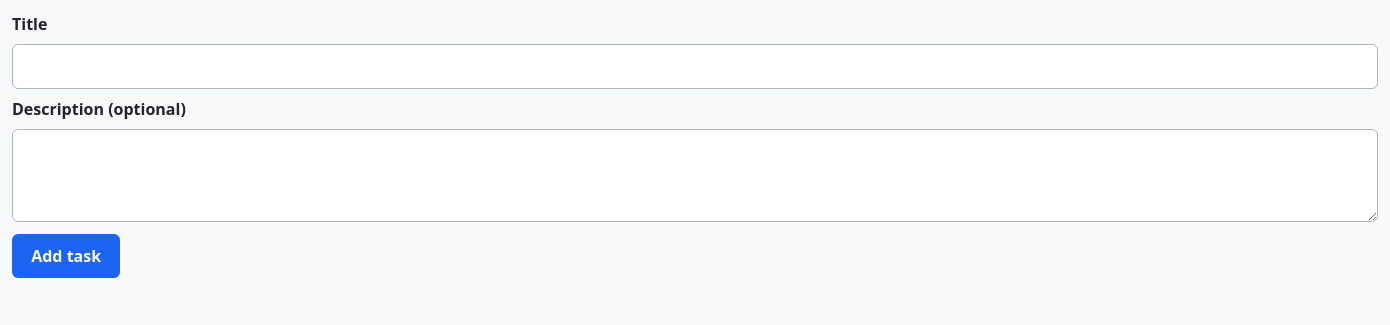
TaskForm › validation in the browser › clears the error of a field as soon as it is edited
Click the button "Add task" at (66, 256), box left=12, top=234, right=120, bottom=278
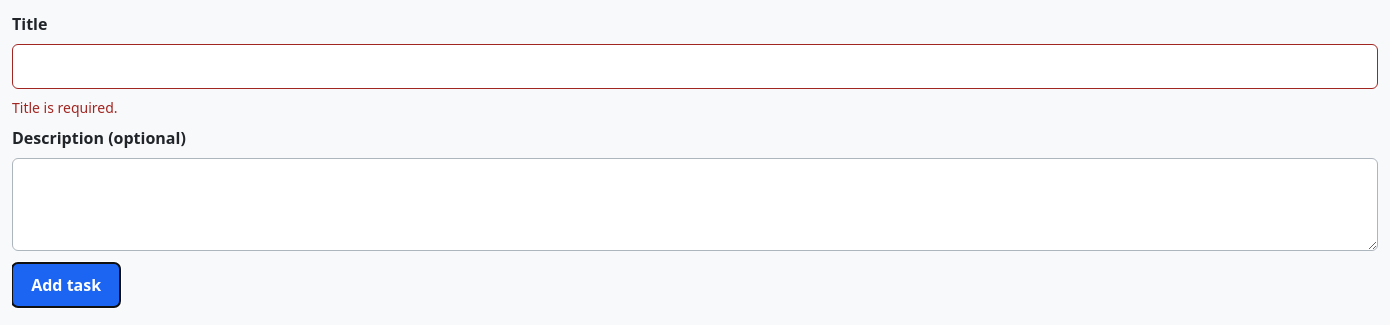
Type "x" into the field labelled "Title" at (695, 67), box left=12, top=44, right=1378, bottom=89
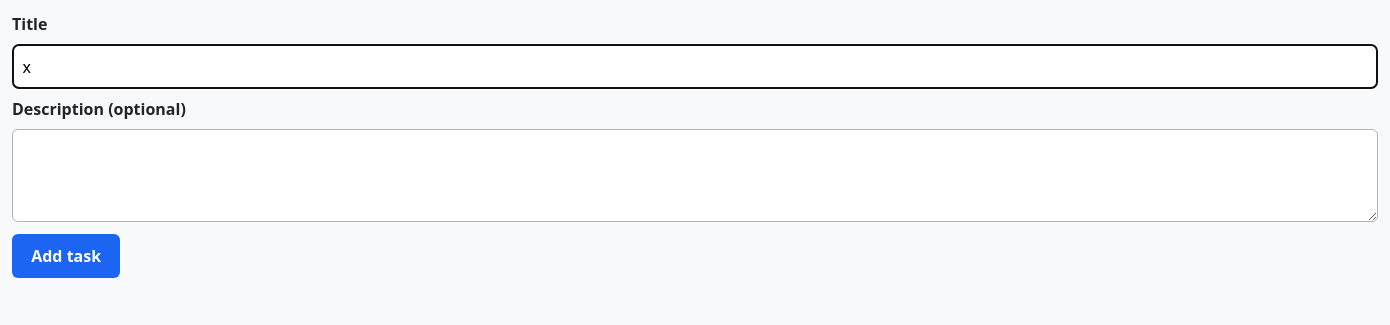
Result: the message "Title is required." is gone
